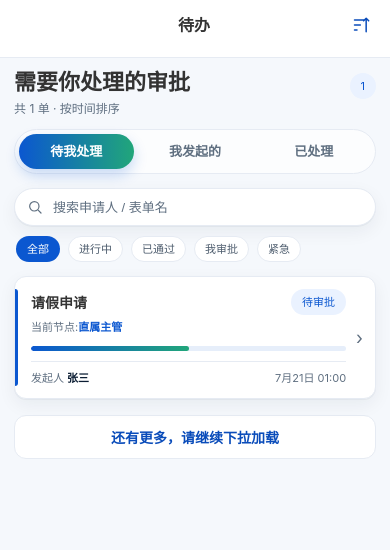
Scenario: TaskCenterPage › shows a paged-list hint when the backend reports more items
Expected: the text "请假申请" is shown, [31, 292, 87, 312]
Click the button "还有更多，请继续下拉加载" at (195, 437), box [14, 415, 376, 459]
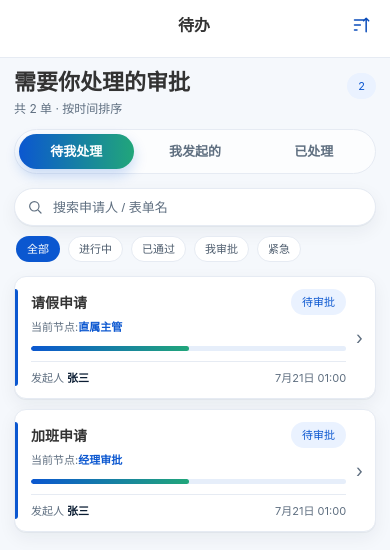
Expected: the text "加班申请" is shown, [31, 424, 87, 446]
